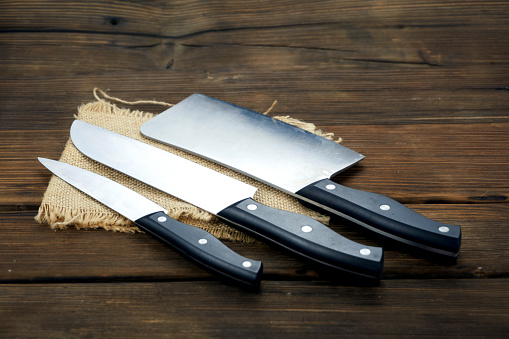knife: (135, 90, 464, 268), (67, 114, 385, 287), (30, 157, 264, 299)
